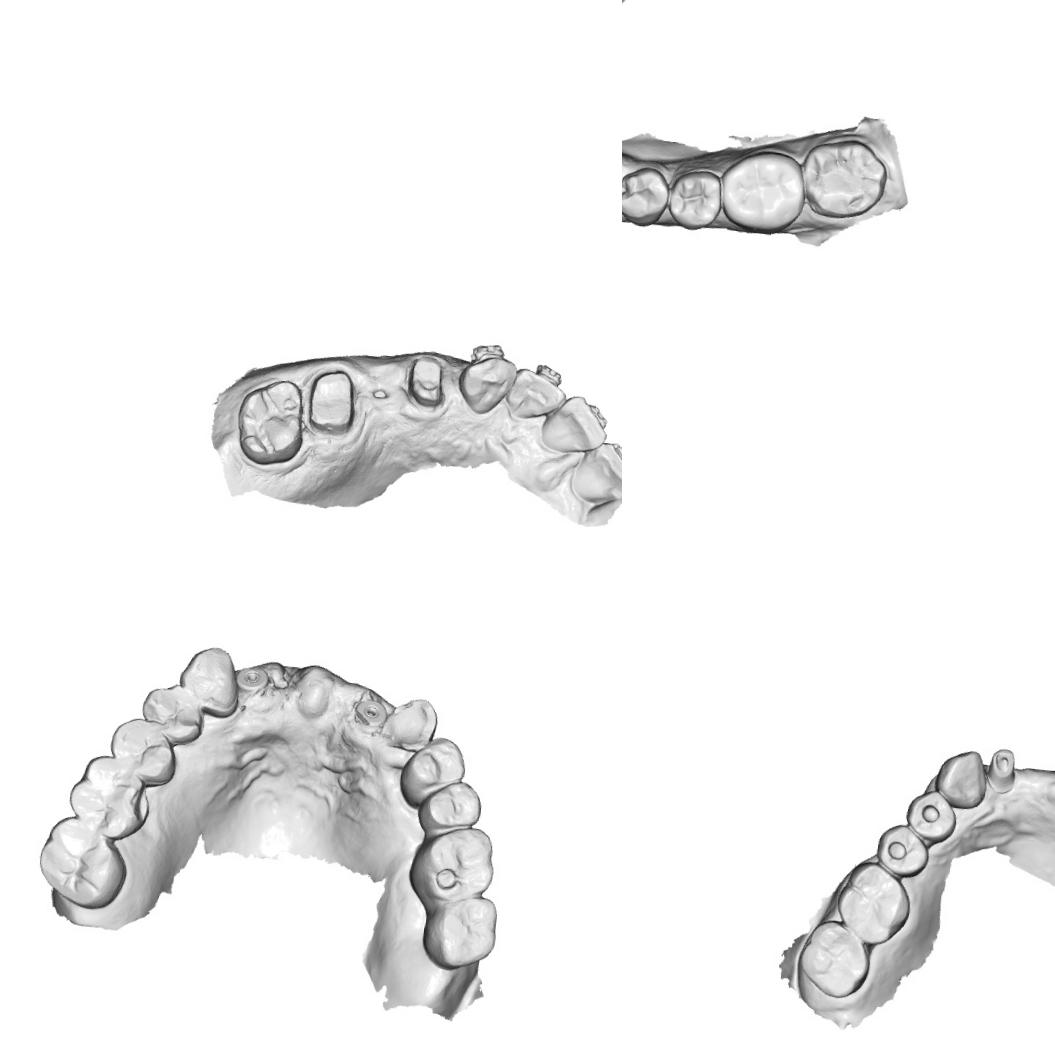abutment: (984, 745, 1020, 796)
canine: (176, 640, 243, 718), (452, 347, 520, 420), (379, 690, 446, 757), (932, 746, 990, 812)
crown: (299, 363, 363, 439), (398, 346, 449, 410)
implant: (350, 693, 388, 736), (235, 658, 270, 698)
incisor: (536, 391, 611, 460), (501, 365, 571, 431), (564, 440, 622, 509)
molar: (33, 813, 132, 914), (794, 133, 894, 226), (404, 822, 501, 912), (62, 750, 156, 842), (228, 374, 312, 472), (716, 144, 806, 235), (832, 856, 916, 949), (418, 892, 502, 977), (794, 915, 876, 1002)
premolar: (396, 732, 471, 813), (103, 714, 182, 788), (134, 678, 208, 750), (414, 775, 488, 839), (664, 164, 728, 233), (874, 821, 932, 880), (902, 787, 960, 846), (622, 162, 672, 229)
